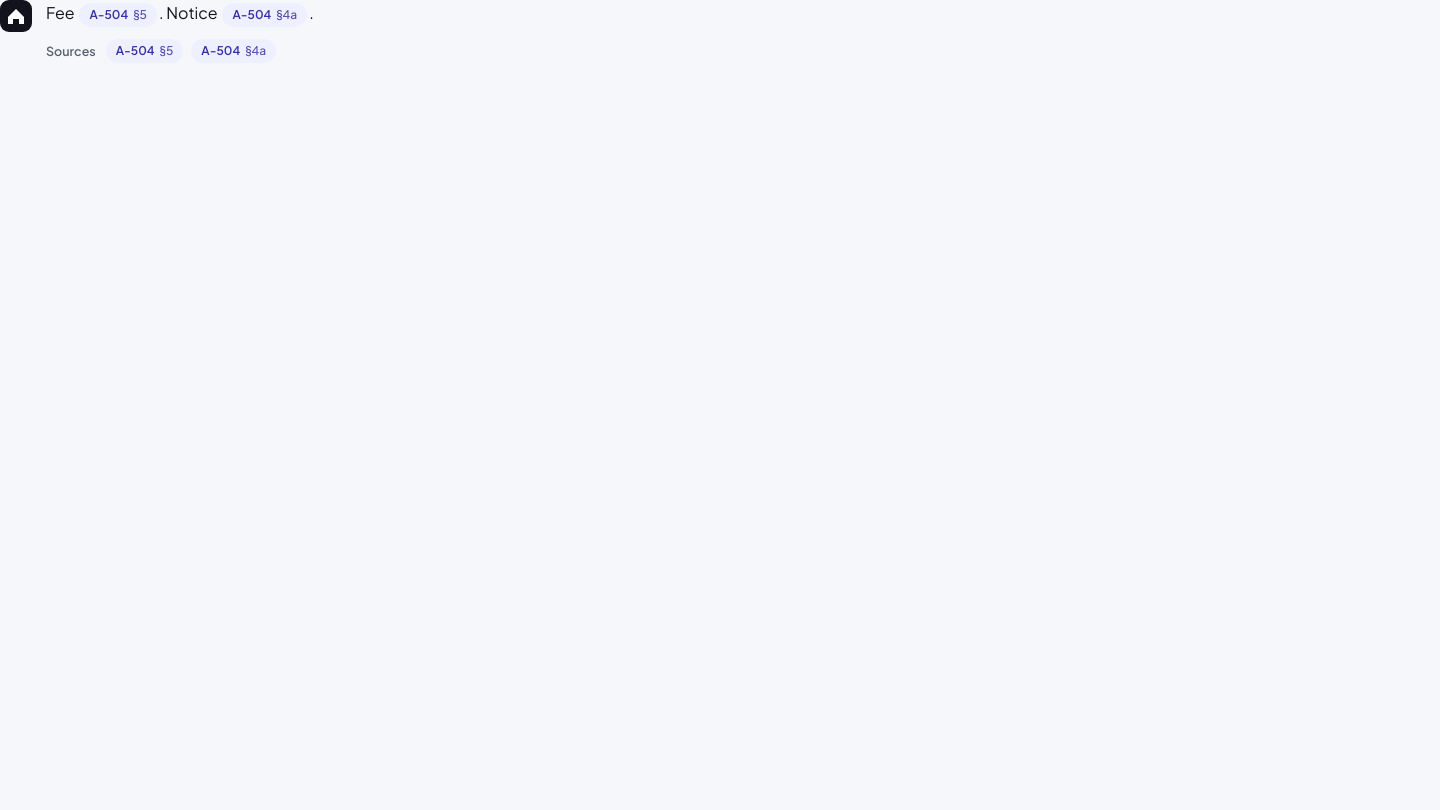
it: the clause drawer › opens the PDF of the document at the page of the clause in a new tab, without handing over the opener
Click the button with class "cite" next to "Fee" at [118, 15], box [79, 3, 157, 27]
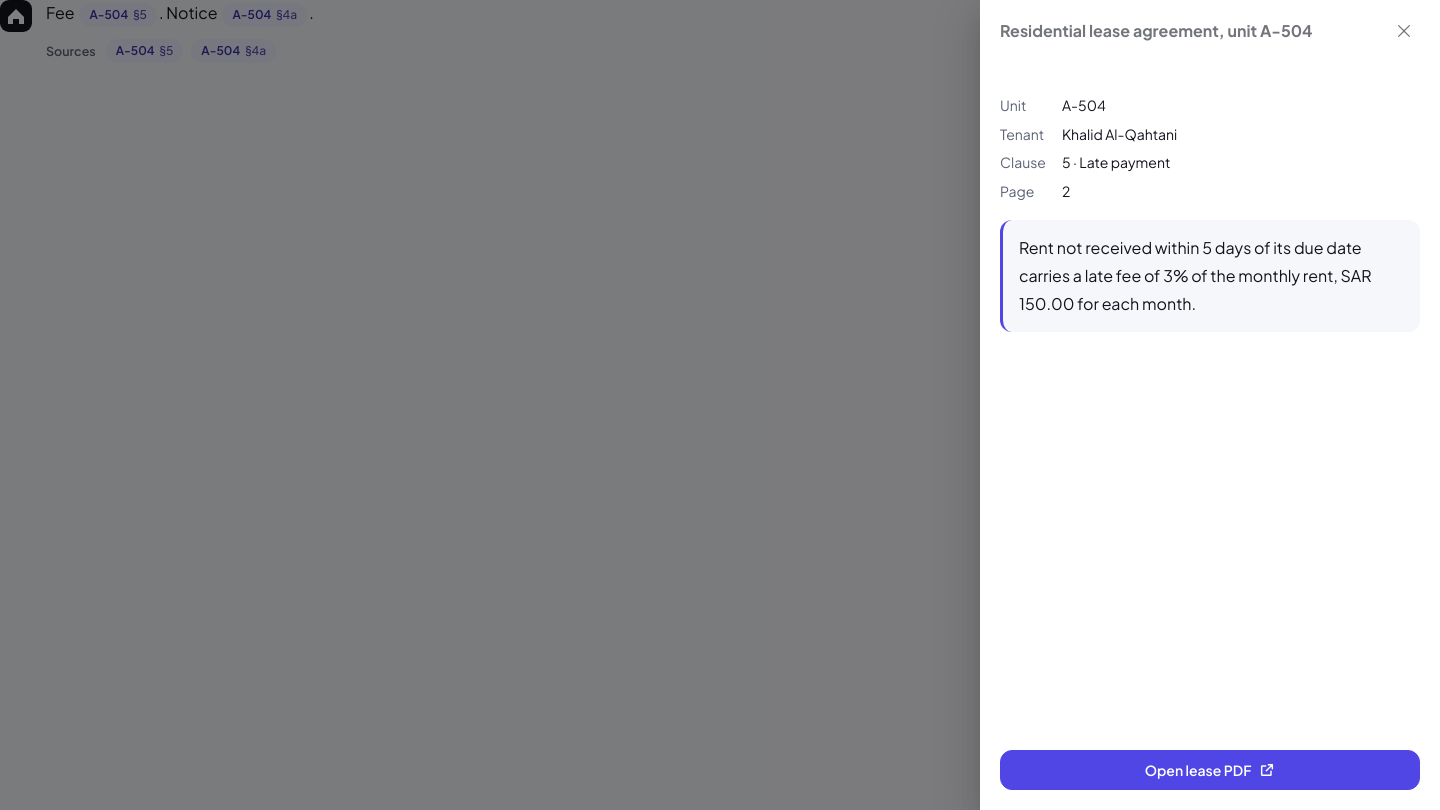
Expected: the link "Open lease PDF" is shown, [1000, 750, 1420, 790]
